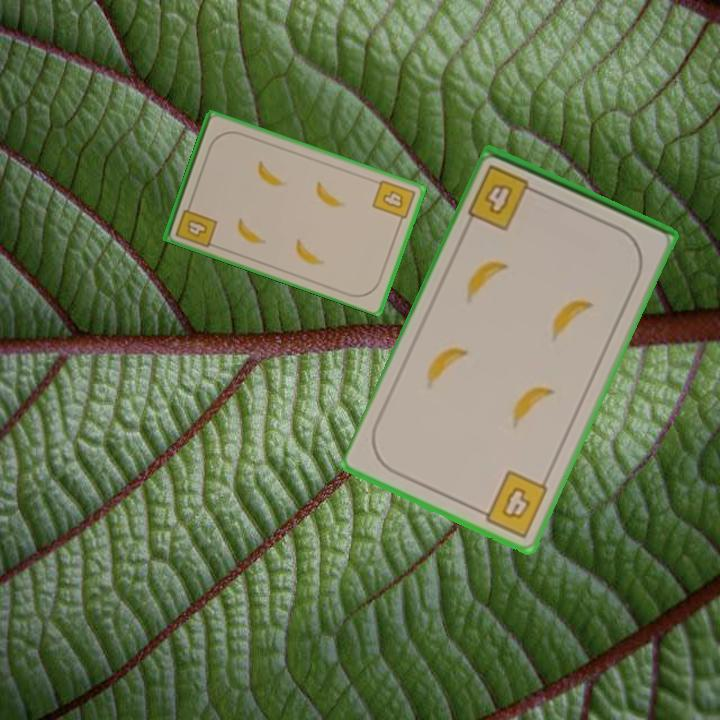4b: (473, 466, 552, 541), (465, 161, 545, 234), (369, 176, 418, 228), (172, 198, 220, 250)
